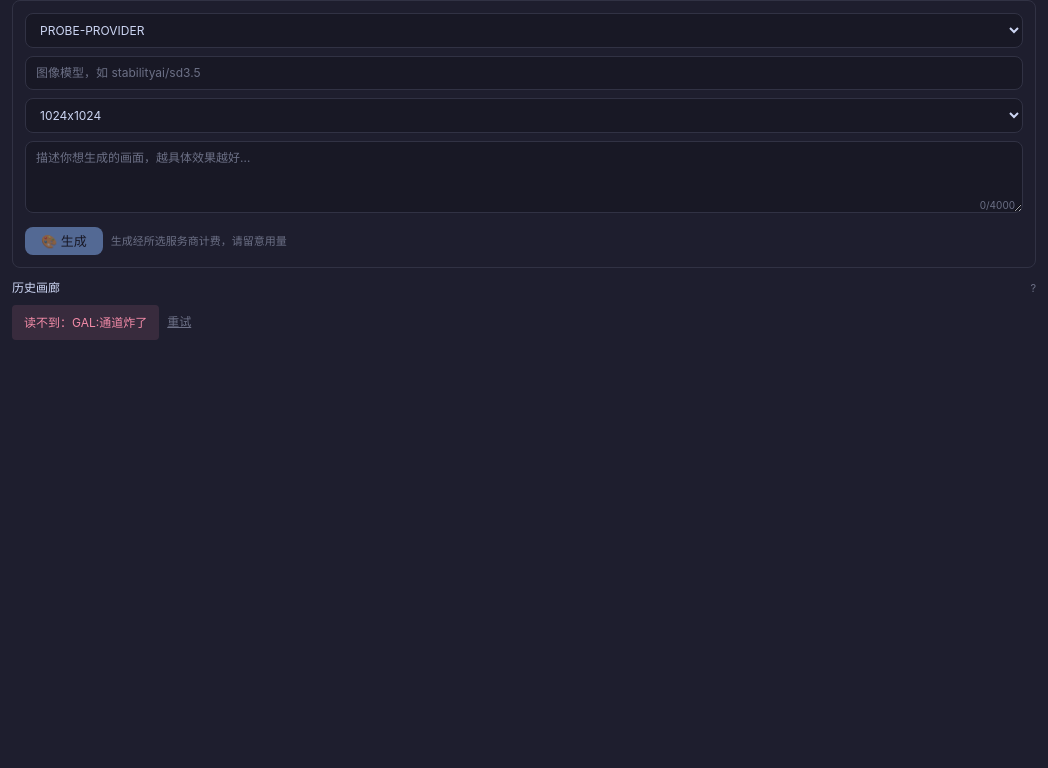
Test: 绘图页：画廊那一发读不到 ⇒ 角标是「?」不是 0，那颗键按下去真再发一发 listImages › 失败脸有键 ⇒ 按下去真多发一发 ⇒ 到货后那句撤、清单上屏
Click the button with test id "image-gallery-read-retry" at (179, 322), box [167,314,191,330]
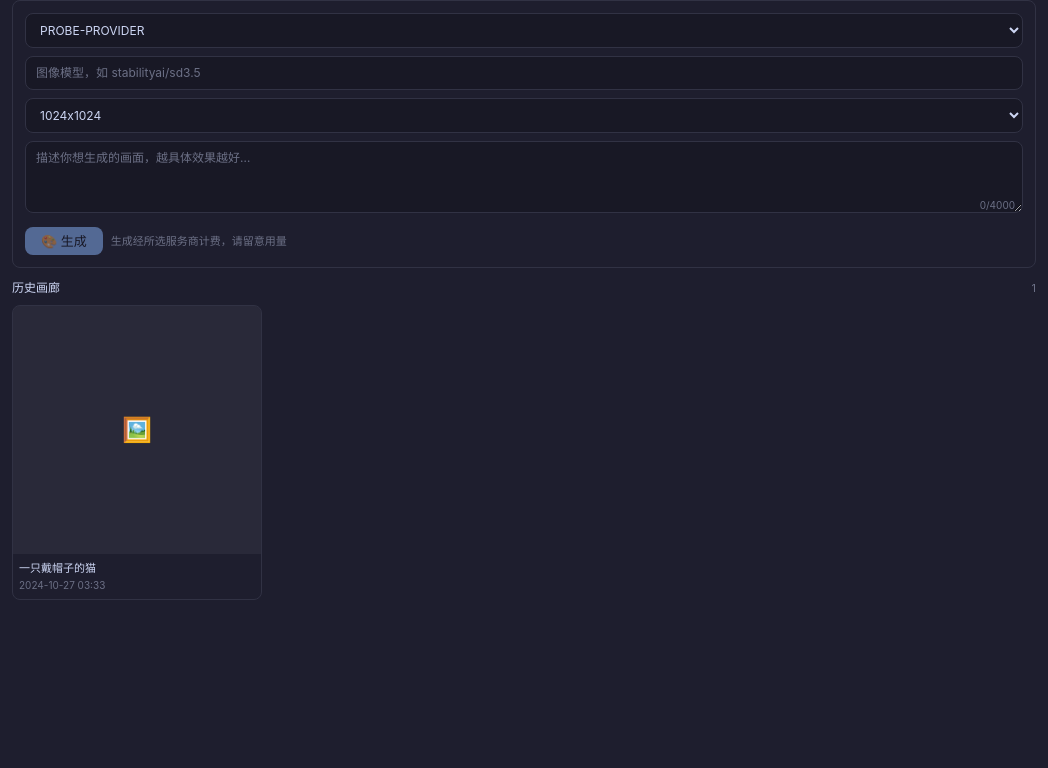
expect the button with test id "image-gallery-read-retry" is gone: met
expect the text "一只戴帽子的猫" is shown: met, box [19,560,96,574]
